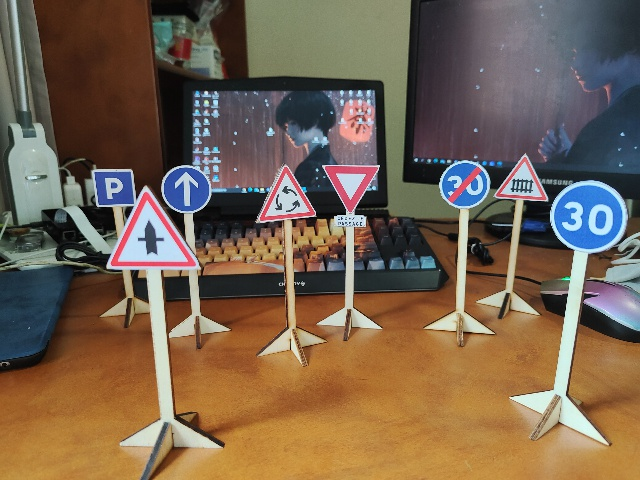P: (90, 169, 138, 207)
ban: (440, 162, 490, 209)
cycle: (256, 165, 317, 220)
first: (103, 187, 200, 270)
second: (322, 163, 381, 231)
straight: (160, 166, 210, 214)
thirty: (550, 176, 625, 255)
train: (493, 156, 548, 202)
